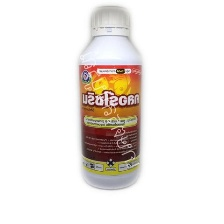insecticide: (75, 1, 149, 194)
